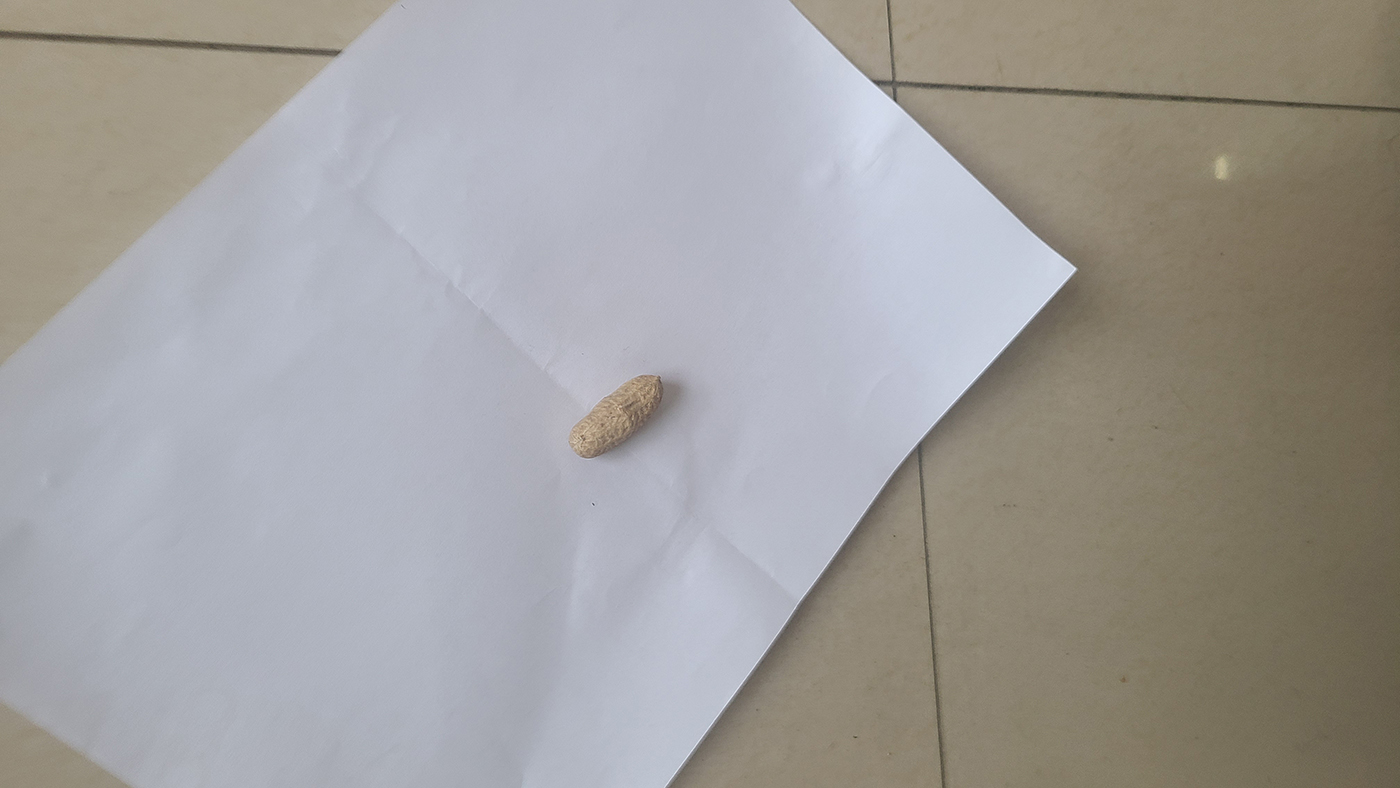h: (567, 370, 663, 460)
